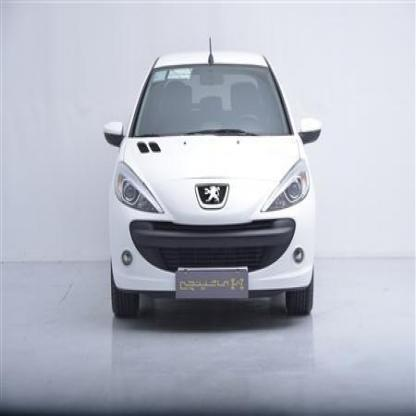Car: (99, 54, 320, 323)
